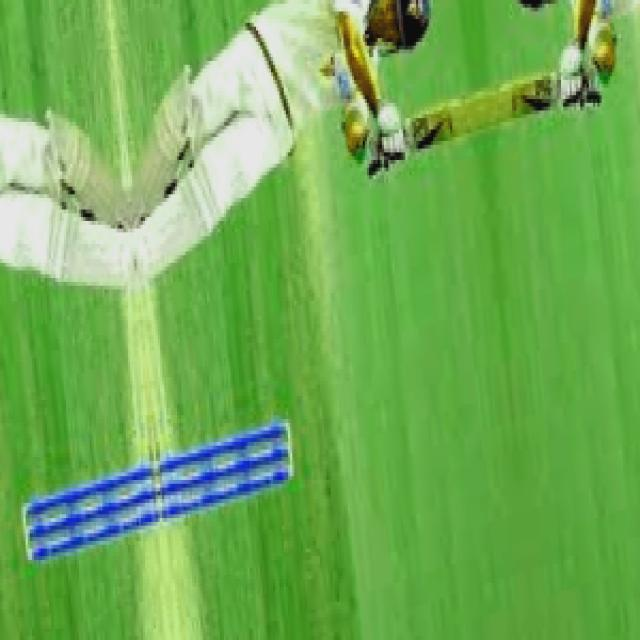toe: (477, 80, 497, 140)
